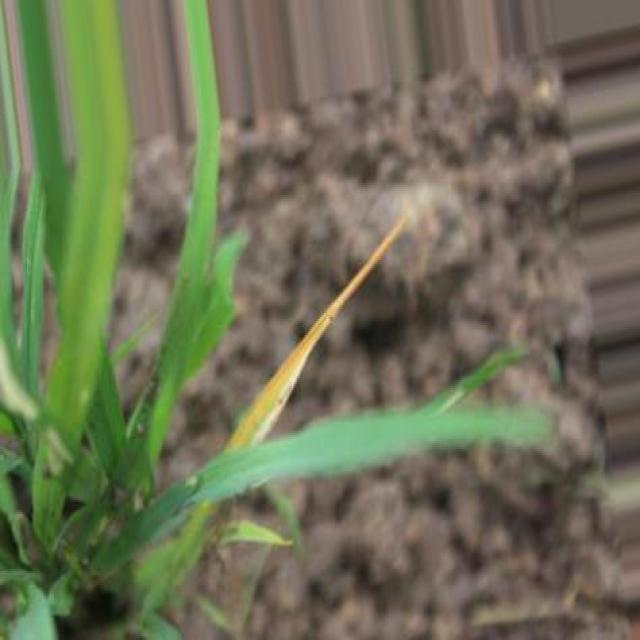Rice Tungro: (226, 215, 408, 449)
